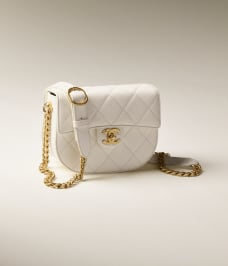channel: (36, 70, 166, 184), (98, 119, 137, 156), (41, 97, 57, 182)
